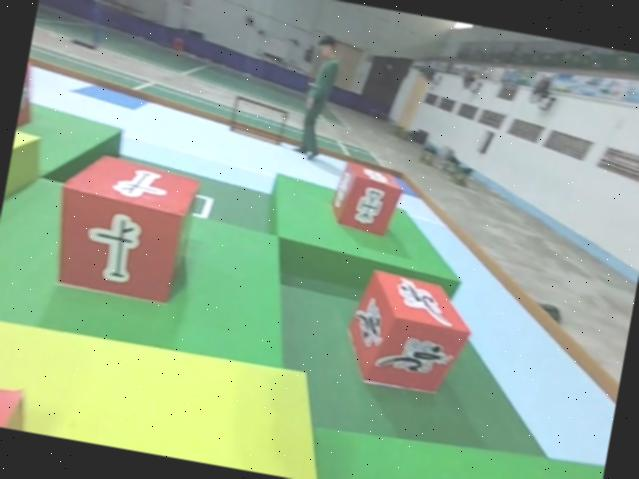R1: (339, 265, 478, 400)
R2 Real: (44, 148, 201, 309), (330, 160, 404, 236)
